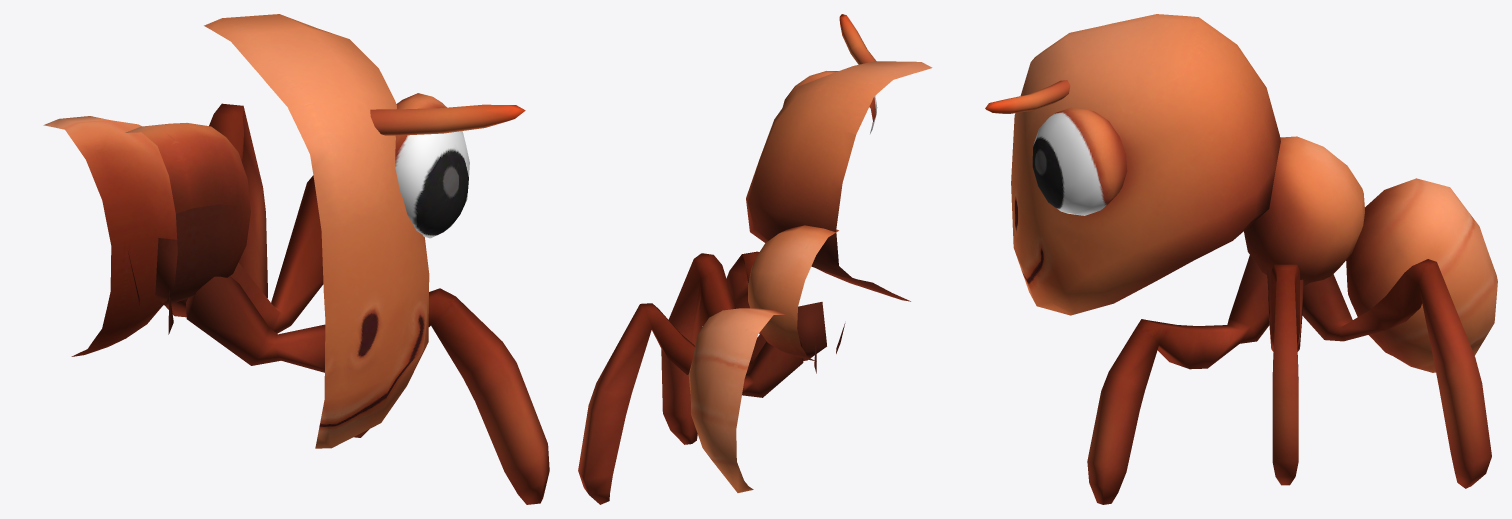
Rendered from ant_right.glb.
The picture shows the model from 3 angles, left to right: view 1: azimuth 30°, elevation 25°; view 2: azimuth 150°, elevation 25°; view 3: azimuth 270°, elevation 25°; orthographic projection. The views are drawn at different scales.
Visible parts, largest first — view 1: ant_right; view 2: ant_right; view 3: ant_right.
Boxes of the visible parts, <box> form: ant_right: <box>43,14,549,504</box>; ant_right: <box>578,14,932,504</box>; ant_right: <box>985,14,1497,504</box>.
Size of the model in its own units: 0.5162 by 0.8835 by 1.04.
Materials: 1 (1 with a texture image).
